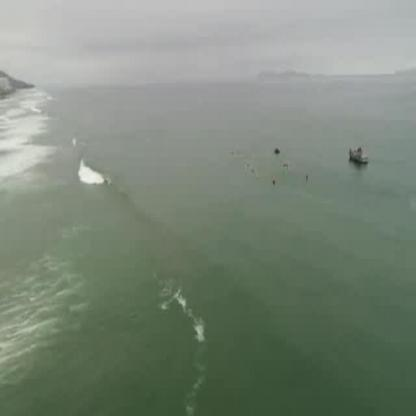Boat: (348, 141, 372, 172)
